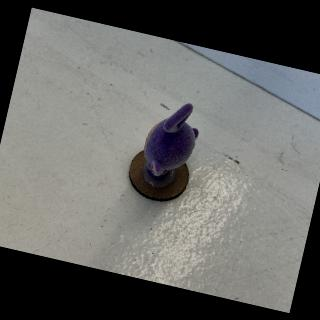teletubby: (143, 103, 198, 180)
